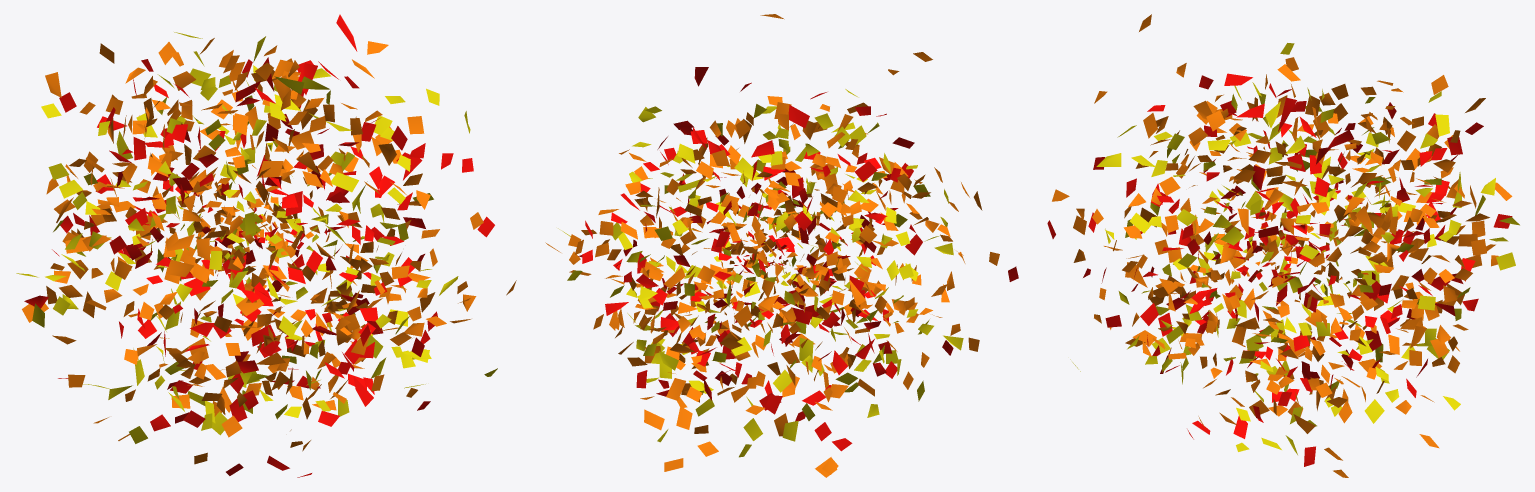
File: leafsDense3.fbx
The picture shows the model from 3 angles, left to right: view 1: azimuth 30°, elevation 25°; view 2: azimuth 150°, elevation 25°; view 3: azimuth 270°, elevation 25°; orthographic projection. The views are drawn at different scales.
Visible parts, largest first — view 1: leafsDense3_LOD0; view 2: leafsDense3_LOD0; view 3: leafsDense3_LOD0.
Part boxes in pixels (bbox=[...]): leafsDense3_LOD0: bbox=[16, 14, 516, 477]; leafsDense3_LOD0: bbox=[545, 14, 1018, 477]; leafsDense3_LOD0: bbox=[1047, 14, 1519, 477].
Size of what is drawn, in the model's own units: 970 by 986 by 1050.
